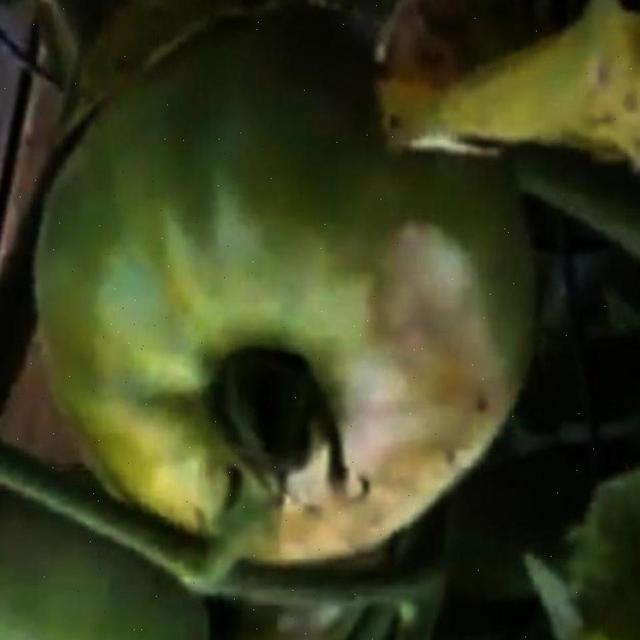Sunscald Fruit: (191, 124, 343, 370)
